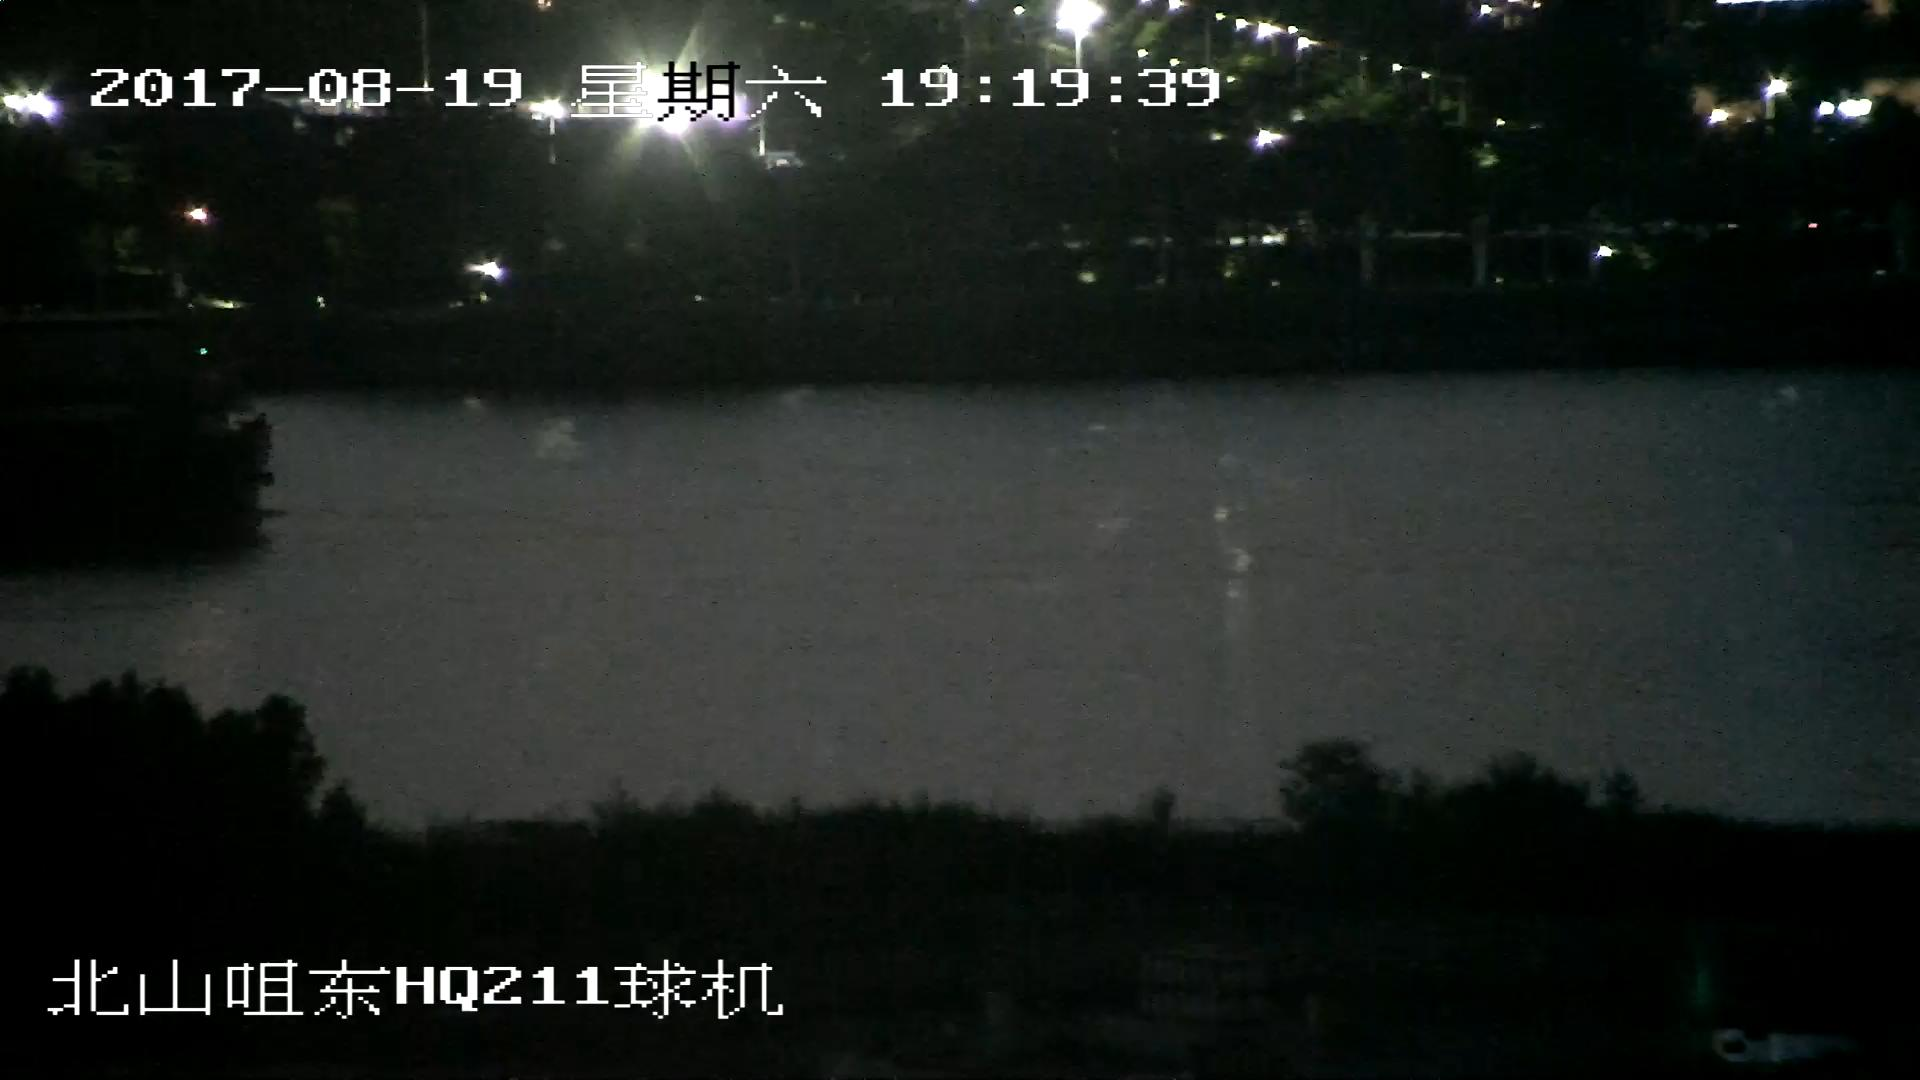container ship: (1, 339, 281, 562)
